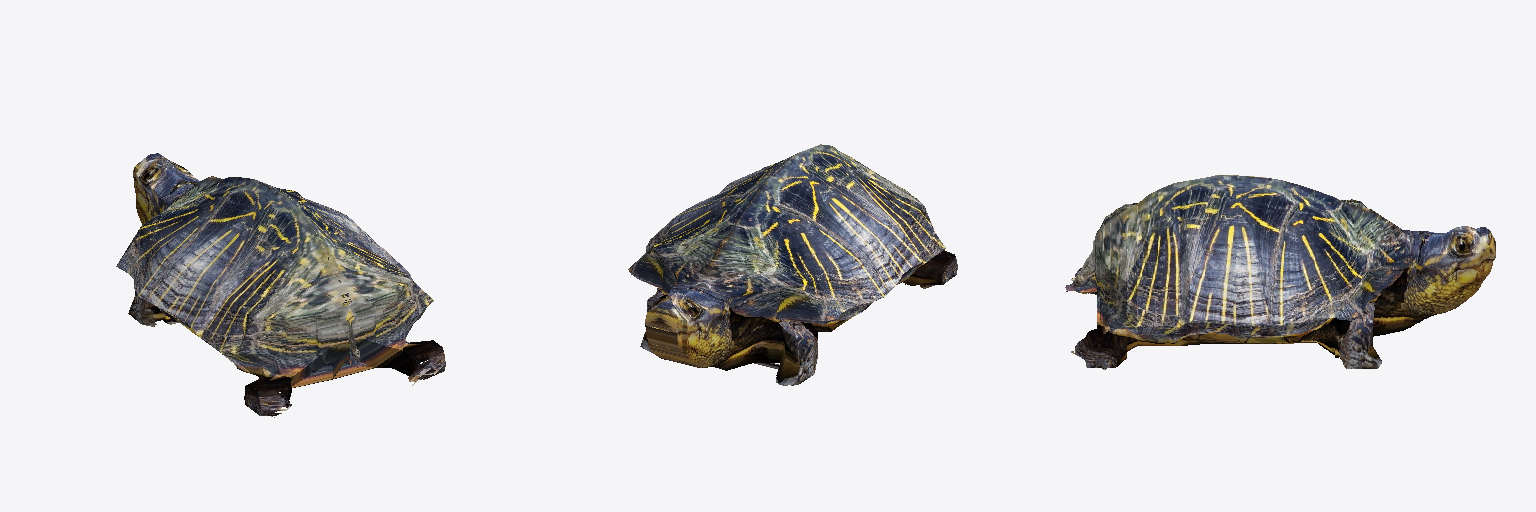
3 renders of one model, left to right at view 1: azimuth 30°, elevation 25°; view 2: azimuth 150°, elevation 25°; view 3: azimuth 270°, elevation 25°, orthographic.
Parts seen in each view (by area): view 1: Cube; view 2: Cube; view 3: Cube.
Part boxes in pixels (bbox=[...]): Cube: bbox=[116, 153, 445, 417]; Cube: bbox=[628, 144, 957, 385]; Cube: bbox=[1065, 175, 1495, 369].
Bounding box in the file's own units: 0.3205 × 0.2125 × 0.5119.
2 materials, 1 textured.